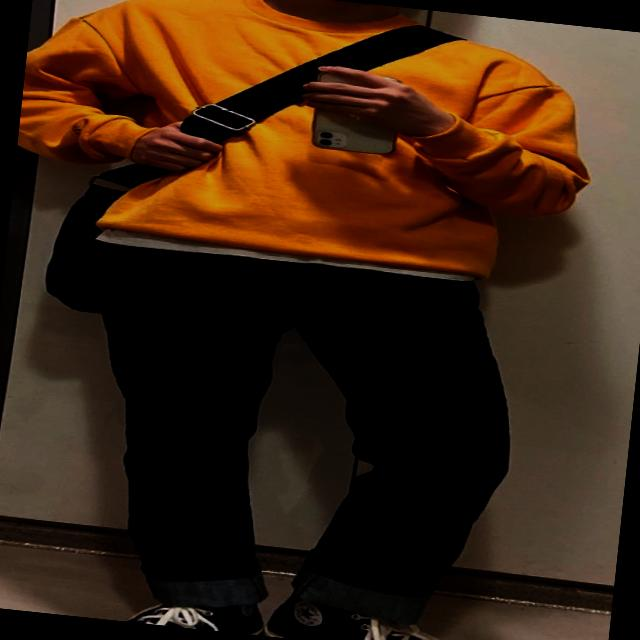denimpants: (57, 231, 531, 639)
mtm: (6, 0, 603, 300)
